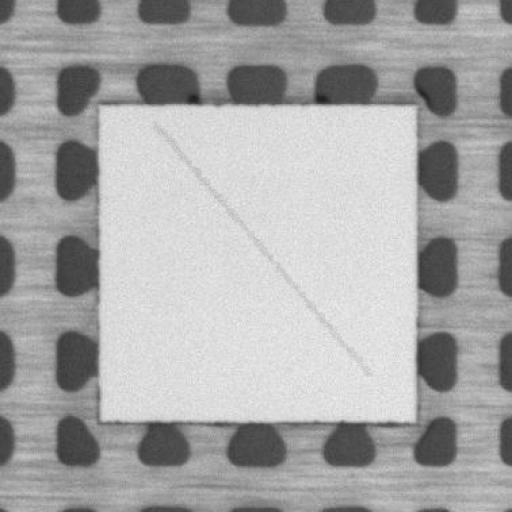DIE_CRACK: (154, 123, 369, 375)
